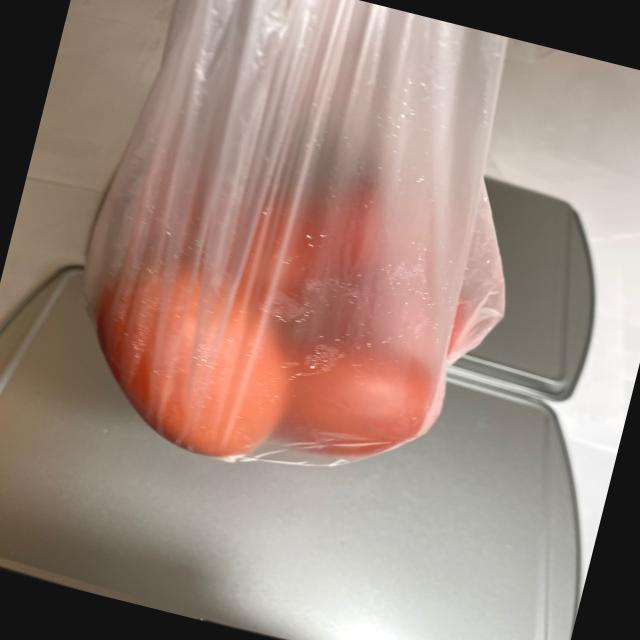tomato: (68, 88, 534, 516)
